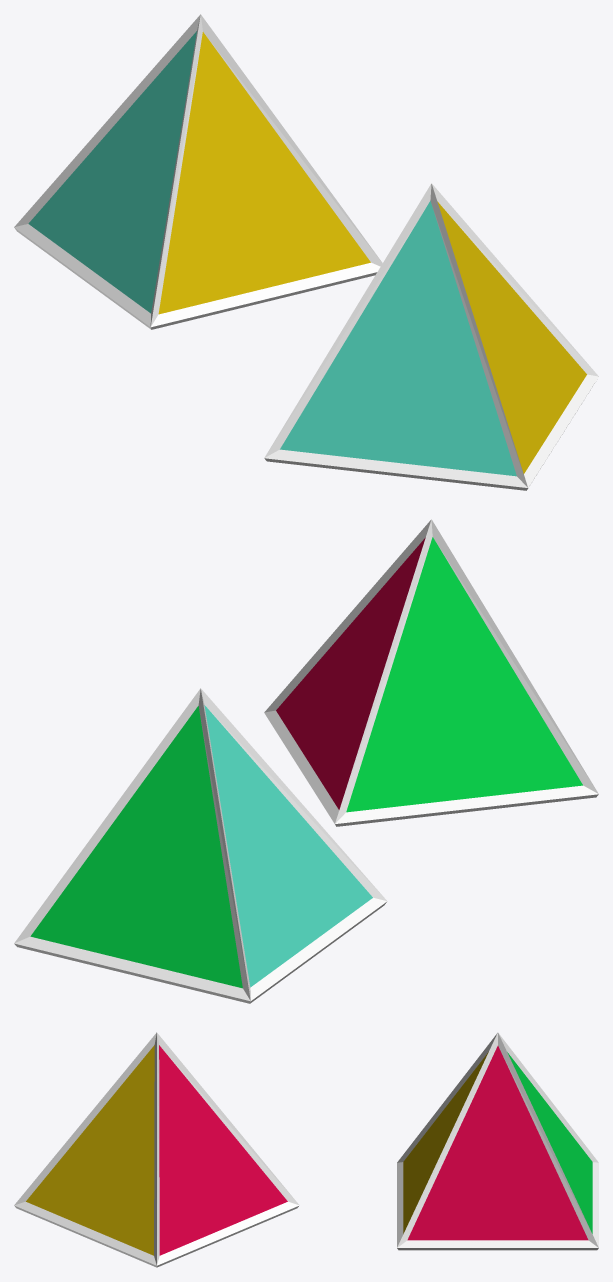
3 renders of one model, top to bottom at view 1: azimuth 30°, elevation 25°; view 2: azimuth 150°, elevation 25°; view 3: azimuth 270°, elevation 25°, orthographic. The views are drawn at different scales.
Visible parts, largest first — view 1: Cone, Cone.002; view 2: Cone, Cone.002; view 3: Cone.002, Cone.
Part boxes in pixels (x1,y1,x2,y2): Cone: (14, 14, 382, 329); Cone.002: (264, 183, 598, 490); Cone: (14, 688, 387, 1003); Cone.002: (264, 519, 598, 826); Cone.002: (14, 1032, 299, 1267); Cone: (397, 1032, 598, 1250).
Size of the model in its own units: 628 by 427 by 1286.
